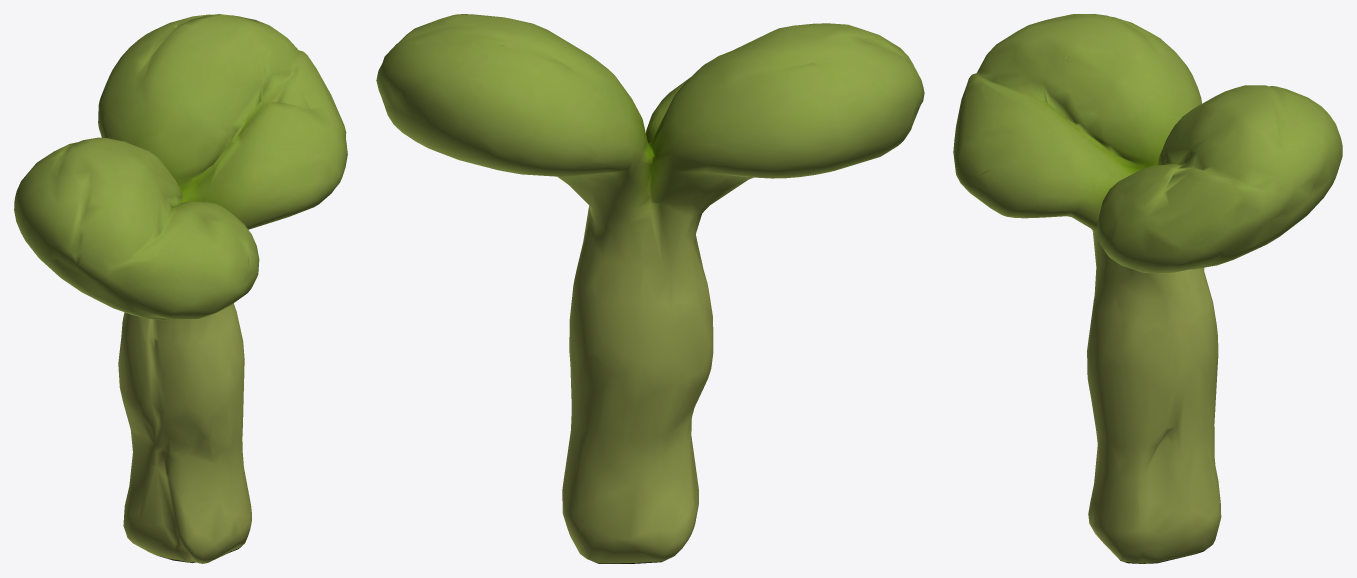
File: daisy_s1.glb
3 renders of one model, left to right at view 1: azimuth 30°, elevation 25°; view 2: azimuth 150°, elevation 25°; view 3: azimuth 270°, elevation 25°, orthographic. The views are drawn at different scales.
Visible parts, largest first — view 1: tripo_node_7928c1af-74b8-47ca-b3f2-9ed5653dd936; view 2: tripo_node_7928c1af-74b8-47ca-b3f2-9ed5653dd936; view 3: tripo_node_7928c1af-74b8-47ca-b3f2-9ed5653dd936.
Boxes of the visible parts, left/top/right/bottom form: tripo_node_7928c1af-74b8-47ca-b3f2-9ed5653dd936: left=14, top=14, right=347, bottom=563; tripo_node_7928c1af-74b8-47ca-b3f2-9ed5653dd936: left=376, top=14, right=924, bottom=563; tripo_node_7928c1af-74b8-47ca-b3f2-9ed5653dd936: left=953, top=14, right=1342, bottom=563.
Size of the model in its own units: 0.7921 by 0.9792 by 0.71.
Materials: 1 (1 with a texture image).
